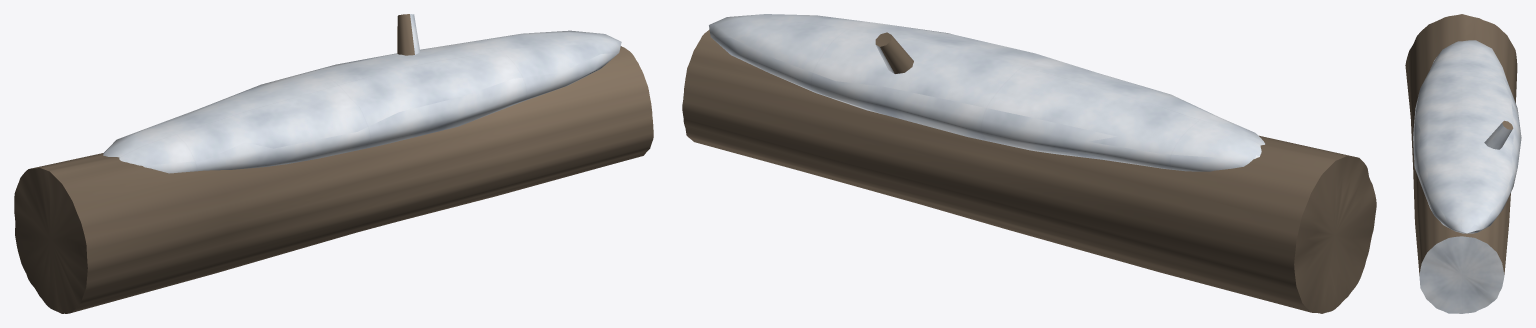
File: snow-fallen-log-v01.glb
3 renders of one model, left to right at view 1: azimuth 30°, elevation 25°; view 2: azimuth 150°, elevation 25°; view 3: azimuth 270°, elevation 25°, orthographic. The views are drawn at different scales.
Parts seen in each view (by area): view 1: snow-fallen-log; view 2: snow-fallen-log; view 3: snow-fallen-log.
Boxes of the visible parts, box(x1,y1,x2,y2) form: snow-fallen-log: box(14, 14, 653, 313); snow-fallen-log: box(682, 14, 1376, 313); snow-fallen-log: box(1405, 14, 1521, 313).
Bounding box in the file's own units: 4.63 × 1.38 × 1.08.
Materials: 2 (1 with a texture image).
